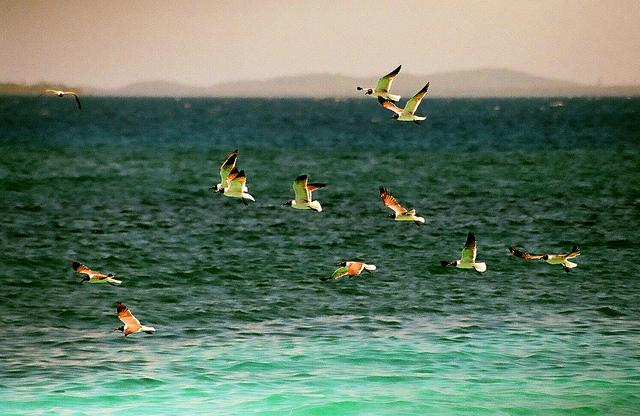bird: (508, 243, 586, 273), (378, 82, 433, 124), (443, 231, 491, 275), (355, 65, 407, 103), (376, 184, 423, 226), (110, 300, 159, 340), (71, 259, 124, 287), (209, 152, 239, 196), (216, 172, 253, 205), (324, 261, 376, 284), (42, 90, 86, 111)
